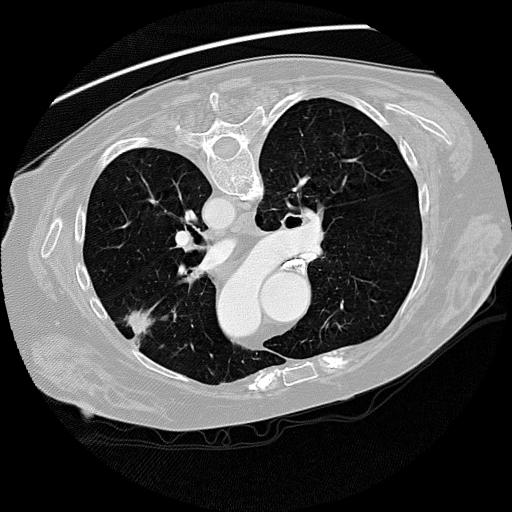nodule: (122, 308, 158, 344)
